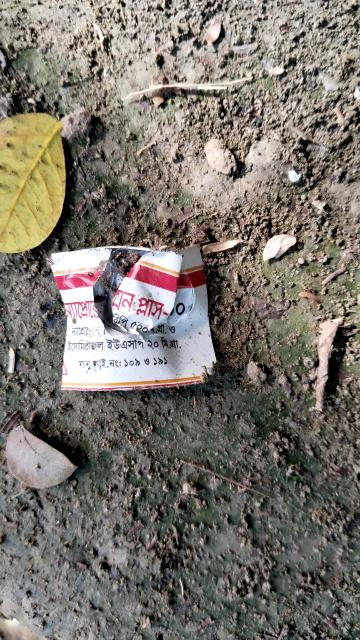medicine: (51, 245, 233, 409)
